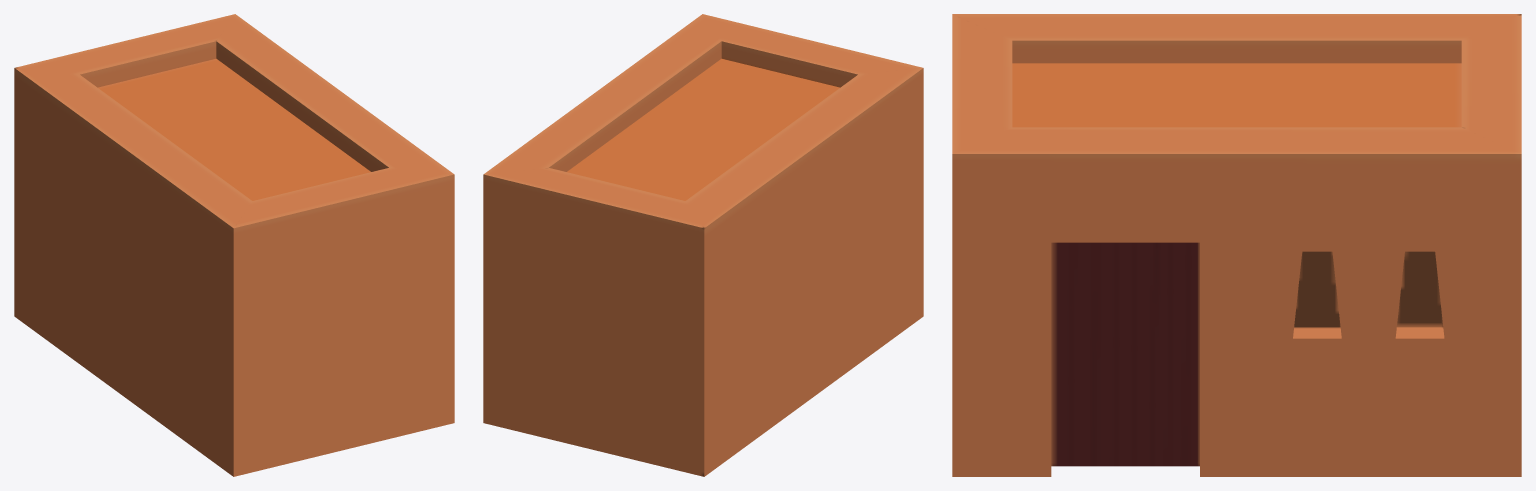
File: House1.fbx
The picture shows the model from 3 angles, left to right: view 1: azimuth 30°, elevation 25°; view 2: azimuth 150°, elevation 25°; view 3: azimuth 270°, elevation 25°; orthographic projection. The views are drawn at different scales.
Visible parts, largest first — view 1: House1; view 2: House1; view 3: House1.
Part boxes in pixels (bbox=[...]): House1: bbox=[14, 14, 454, 476]; House1: bbox=[483, 14, 923, 476]; House1: bbox=[952, 14, 1521, 476].
Bounding box in the file's own units: 449 × 482 × 771.
